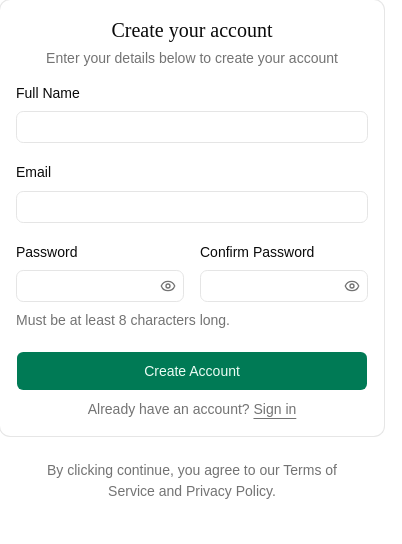
SignUpForm › shows a client-side "Passwords don't match." error and does not submit when confirmation differs
Type "Ada Lovelace" into the field labelled "Full Name" at [192, 127], box [16,111,368,143]
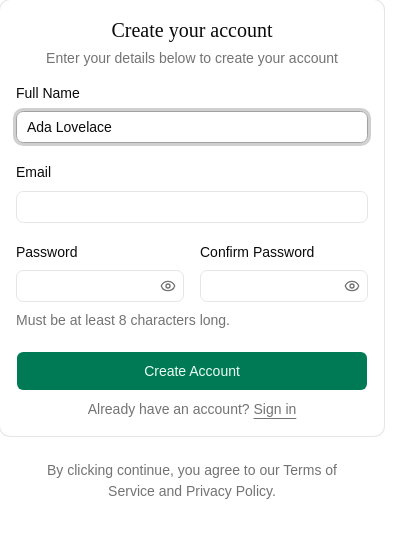
Type "ada@example.com" into the field labelled "Email" at [192, 206], box [16,190,368,222]
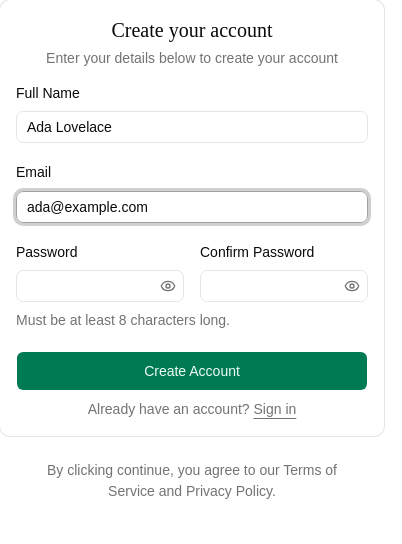
Type "password1" into the password field labelled "Password" at [100, 286], box [16,270,184,302]
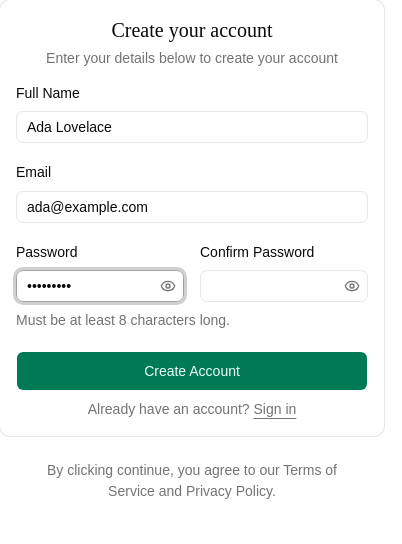
Type "password2" into the password field labelled "Confirm Password" at [284, 286], box [200,270,368,302]
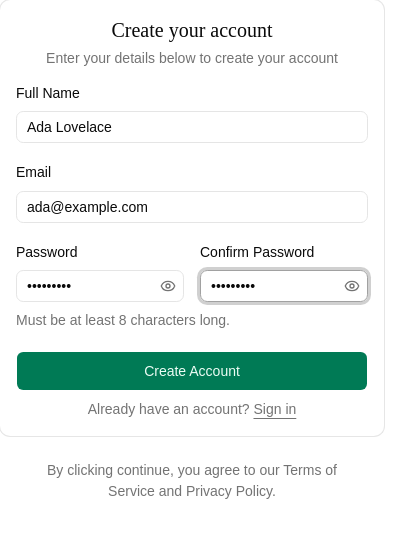
Click the button "Create Account" at [192, 371], box [16,351,368,391]
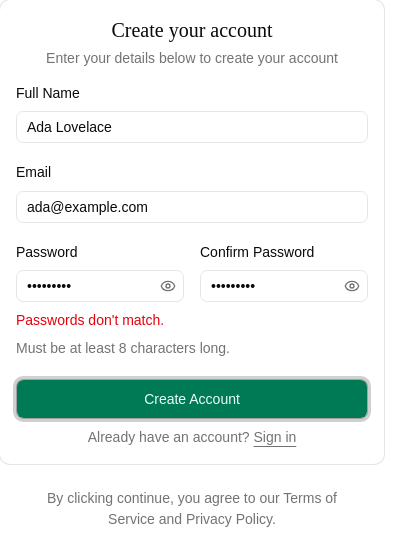
Result: the message reads "Passwords don't match." at [16,312,164,328]
